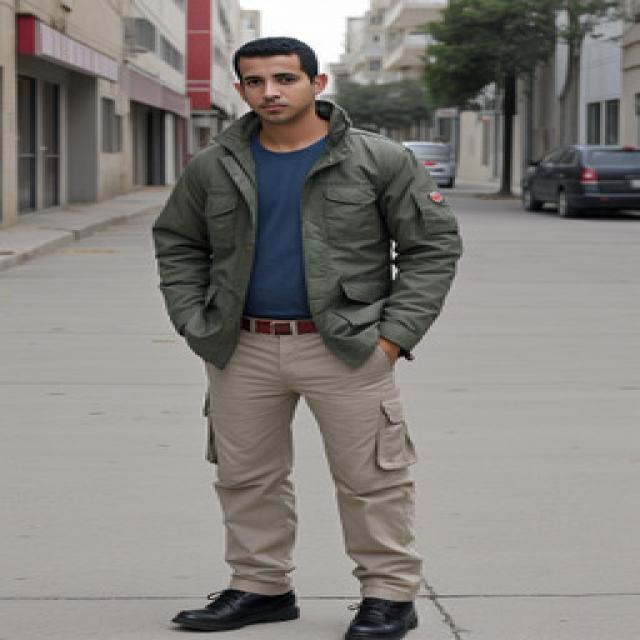Ai human 2: (134, 26, 489, 640)
